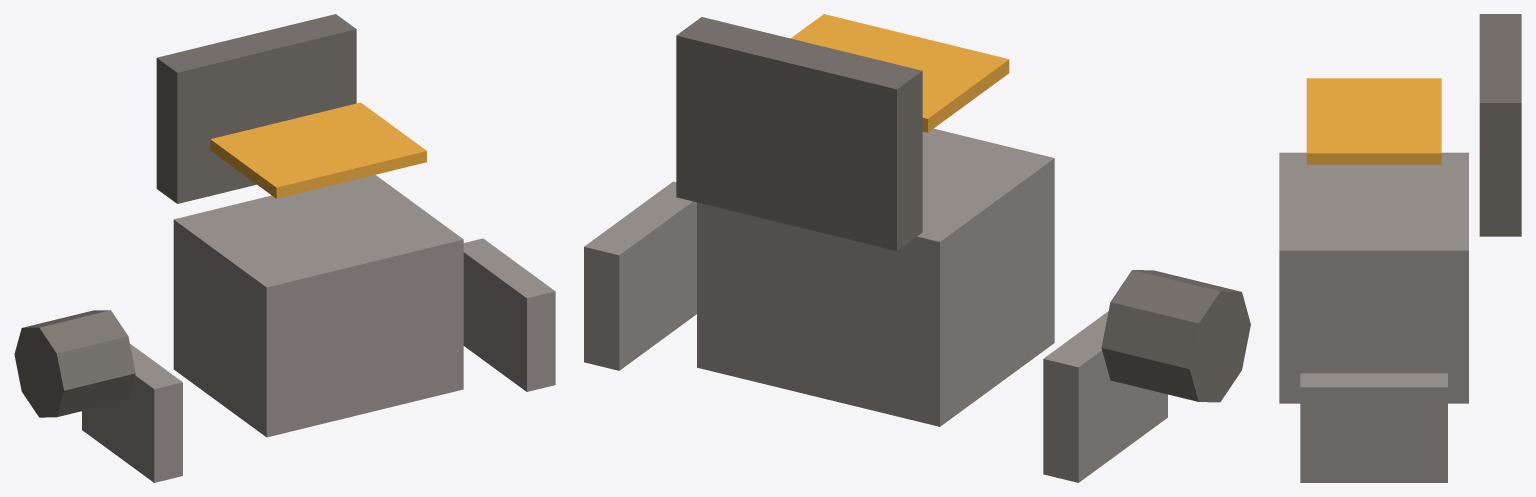
File: forge.dae
The picture shows the model from 3 angles, left to right: view 1: azimuth 30°, elevation 25°; view 2: azimuth 150°, elevation 25°; view 3: azimuth 270°, elevation 25°; orthographic projection. The views are drawn at different scales.
Parts seen in each view (by area): view 1: Cube, Cube.001, Cube.002, Cube.004, Cylinder, Cube.003; view 2: Cube, Cube.001, Cube.004, Cylinder, Cube.003, Cube.002; view 3: Cube, Cube.004, Cube.002, Cube.001.
Boxes of the visible parts, x1,y1,x2,y2 form: Cube: (173,175,463,437); Cube.001: (156,14,356,203); Cube.002: (210,102,426,198); Cube.004: (463,238,555,391); Cylinder: (14,310,135,417); Cube.003: (82,344,182,482); Cube: (697,128,1054,426); Cube.001: (676,17,922,250); Cube.004: (584,181,696,370); Cylinder: (1101,270,1250,402); Cube.003: (1043,311,1167,482); Cube.002: (791,14,1009,132); Cube: (1279,152,1468,403); Cube.004: (1300,373,1447,482); Cube.002: (1306,78,1441,164); Cube.001: (1479,14,1521,236).
Bounding box in the file's own units: 134 × 57.5 × 85.
